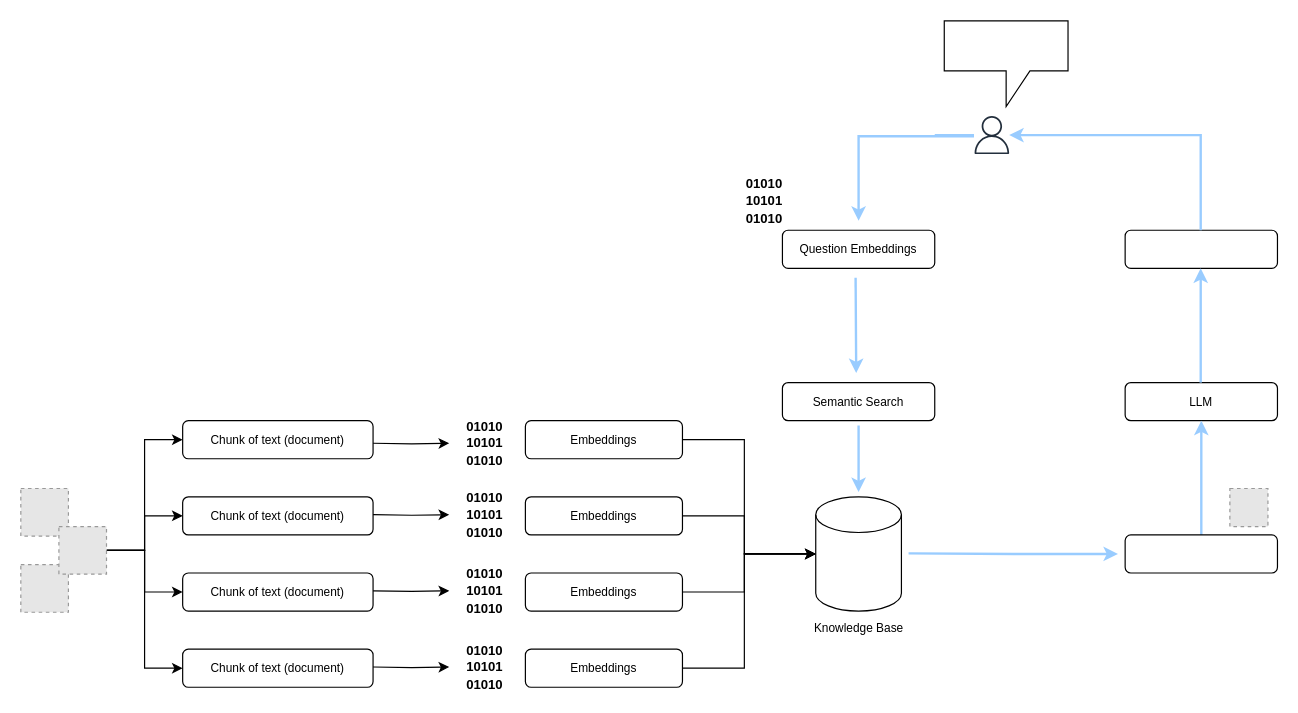
Some shapes in this 1298 by 713 pixel diagram are drawn without their labels. Grey dashed boxes stand in for pictures. The centre of each missing label's shape, as x and y in pixels:
Answer: [1200,248]
Ranked Results: [1200,553]
Vector Store: [858,553]
What is a Neural Network ?: [1005,63]
